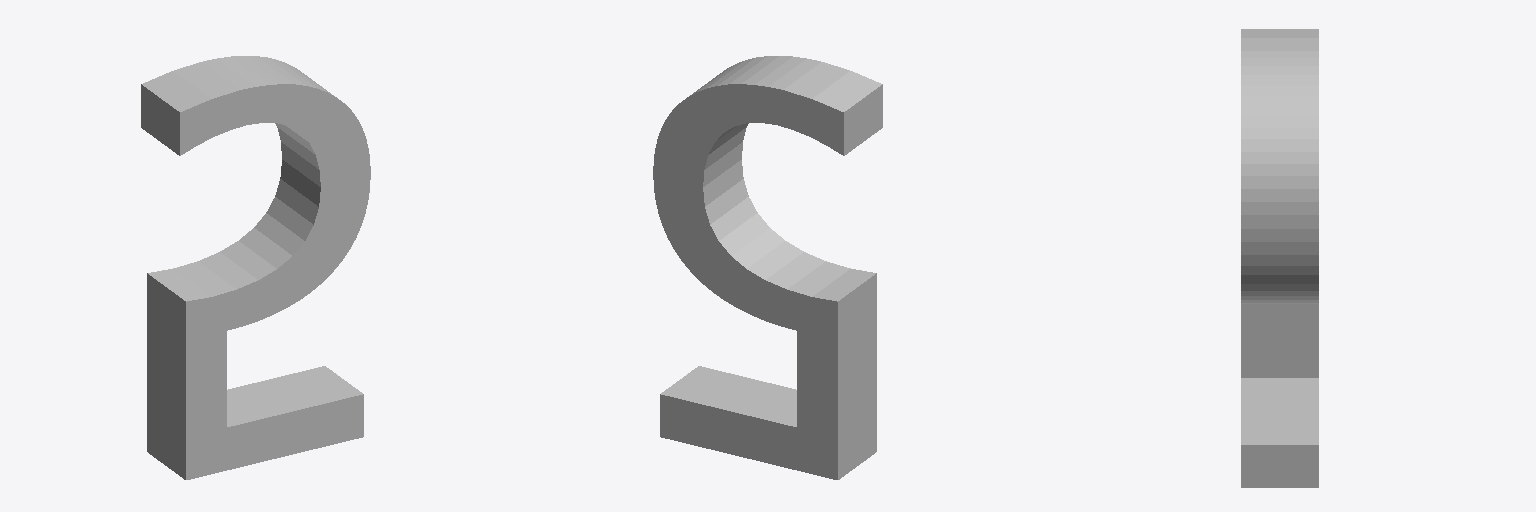
File: Number5.obj
3 renders of one model, left to right at view 1: azimuth 30°, elevation 25°; view 2: azimuth 150°, elevation 25°; view 3: azimuth 270°, elevation 25°, orthographic.
Visible parts, largest first — view 1: typeMesh1; view 2: typeMesh1; view 3: typeMesh1.
Part boxes in pixels (x1,y1,x2,y2): typeMesh1: (141,56,370,479); typeMesh1: (653,56,882,479); typeMesh1: (1241,29,1318,487).
Bounding box in the file's own units: 0.7263 × 1.37 × 0.2559.